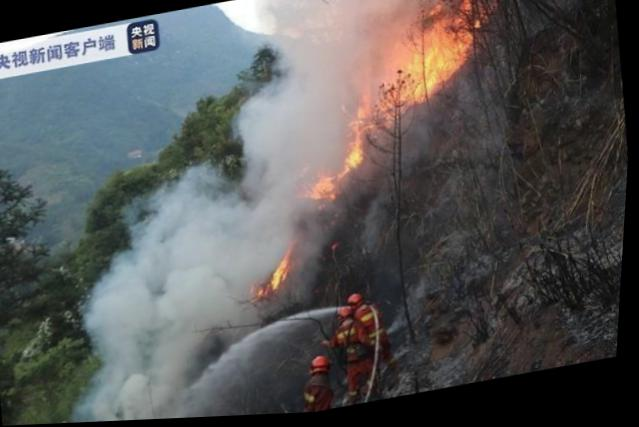fire: (286, 0, 506, 205), (245, 242, 306, 301)
